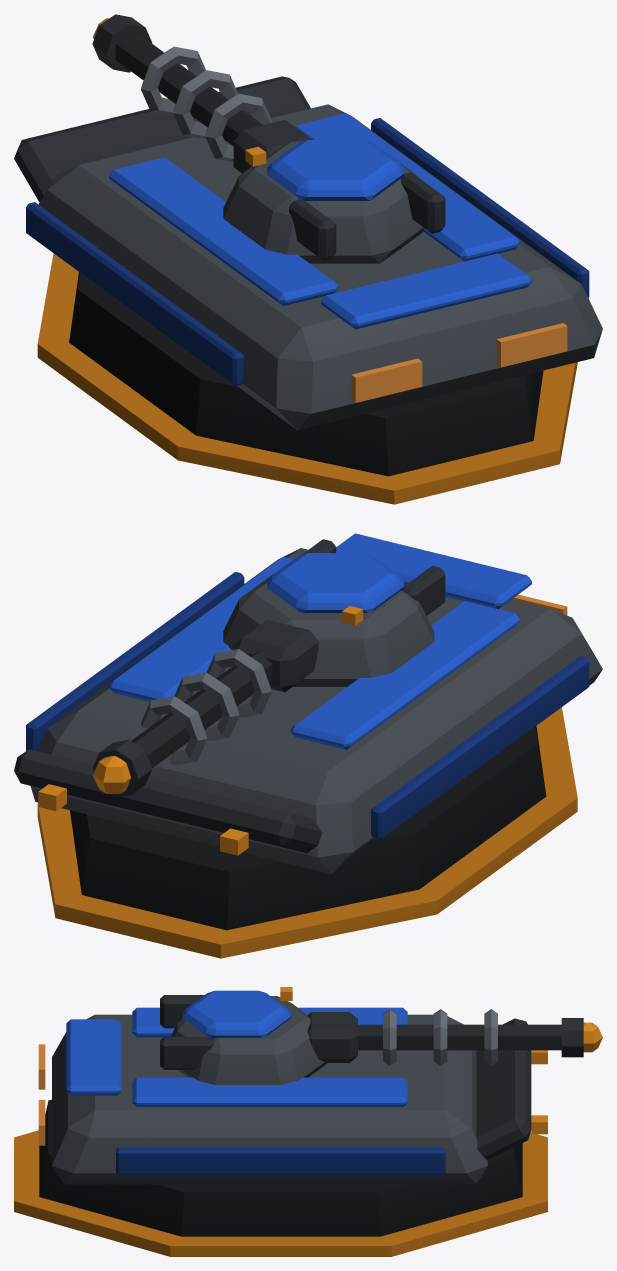
The model's file is lancer.glb.
3 renders of one model, top to bottom at view 1: azimuth 30°, elevation 25°; view 2: azimuth 150°, elevation 25°; view 3: azimuth 270°, elevation 25°, orthographic. The views are drawn at different scales.
Visible parts, largest first — view 1: hull, turret; view 2: hull, turret; view 3: hull, turret.
Boxes of the visible parts, bbox=[...] form: hull: bbox=[14, 76, 602, 504]; turret: bbox=[92, 14, 445, 263]; hull: bbox=[14, 533, 602, 958]; turret: bbox=[92, 539, 445, 797]; hull: bbox=[14, 1007, 547, 1256]; turret: bbox=[160, 987, 602, 1084].
Size of the model in its own units: 0.66 by 0.3485 by 1.07.
